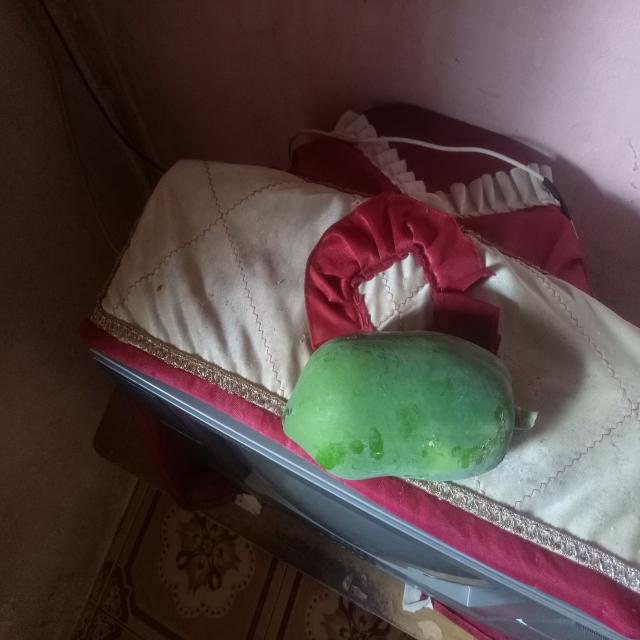Pepaya unrippen: (273, 332, 539, 511)
